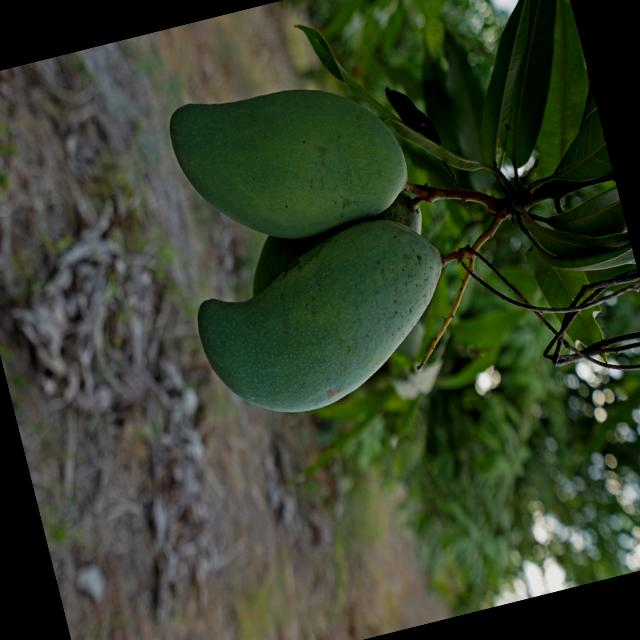mango: (182, 196, 469, 448), (146, 44, 429, 278)
